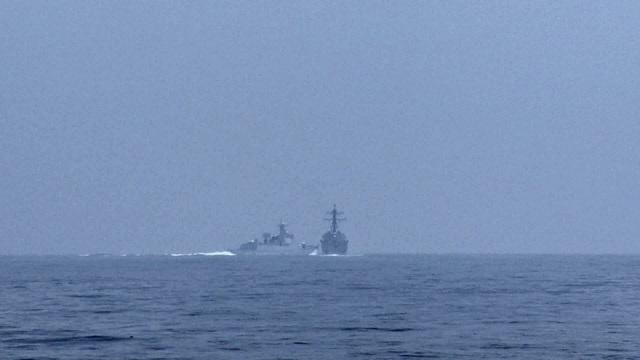MIL_Ship: (230, 217, 318, 260), (305, 202, 356, 259)
